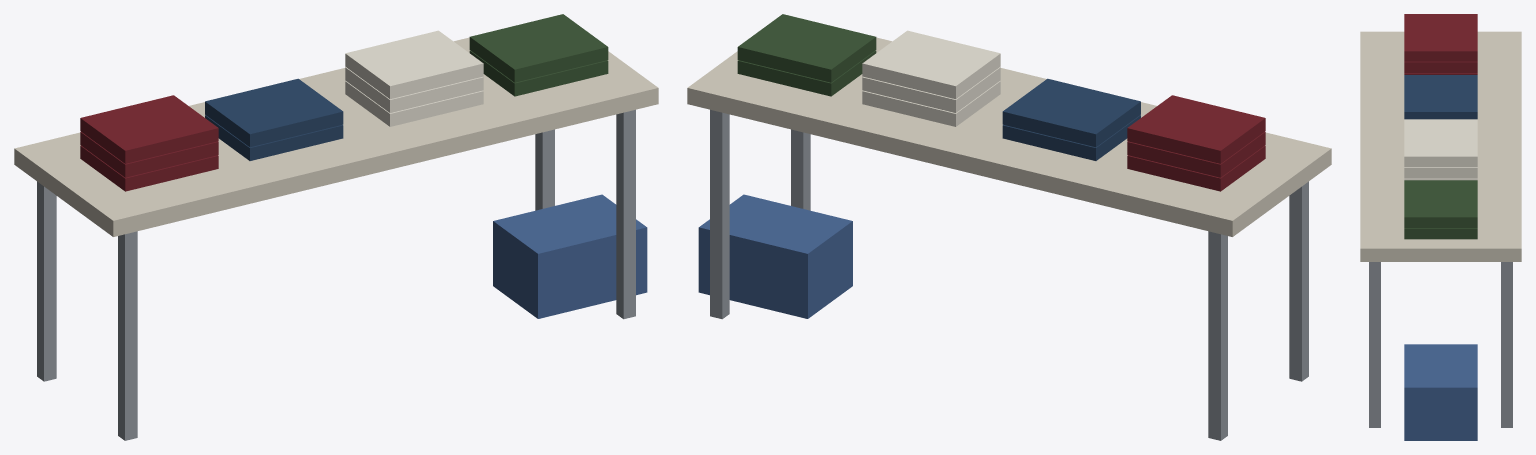
File: folding-table.glb
3 renders of one model, left to right at view 1: azimuth 30°, elevation 25°; view 2: azimuth 150°, elevation 25°; view 3: azimuth 270°, elevation 25°, orthographic. The views are drawn at different scales.
Visible parts, largest first — view 1: part-laminate, part-steel, part-basket, part-cloth-2, part-cloth-0, part-cloth-3, part-cloth-1; view 2: part-laminate, part-steel, part-basket, part-cloth-2, part-cloth-0, part-cloth-3, part-cloth-1; view 3: part-laminate, part-basket, part-cloth-2, part-cloth-0, part-cloth-3, part-steel, part-cloth-1.
Part boxes in pixels (box(x1,y1,x2,y2)): part-laminate: box(14, 37, 658, 236); part-steel: box(37, 109, 635, 440); part-basket: box(493, 194, 647, 318); part-cloth-2: box(345, 30, 483, 126); part-cloth-0: box(80, 95, 218, 191); part-cloth-3: box(469, 14, 608, 96); part-cloth-1: box(205, 78, 343, 160); part-laminate: box(687, 37, 1331, 236); part-steel: box(710, 109, 1308, 440); part-basket: box(698, 194, 852, 318); part-cloth-2: box(862, 30, 1000, 126); part-cloth-0: box(1127, 95, 1265, 191); part-cloth-3: box(737, 14, 876, 96); part-cloth-1: box(1002, 78, 1140, 160); part-laminate: box(1360, 31, 1521, 261); part-basket: box(1404, 344, 1477, 440); part-cloth-2: box(1404, 119, 1477, 180); part-cloth-0: box(1404, 14, 1477, 74); part-cloth-3: box(1404, 180, 1477, 239); part-steel: box(1369, 262, 1512, 427); part-cloth-1: box(1404, 75, 1477, 119).
Size of the model in its own units: 72 by 33 by 22.
